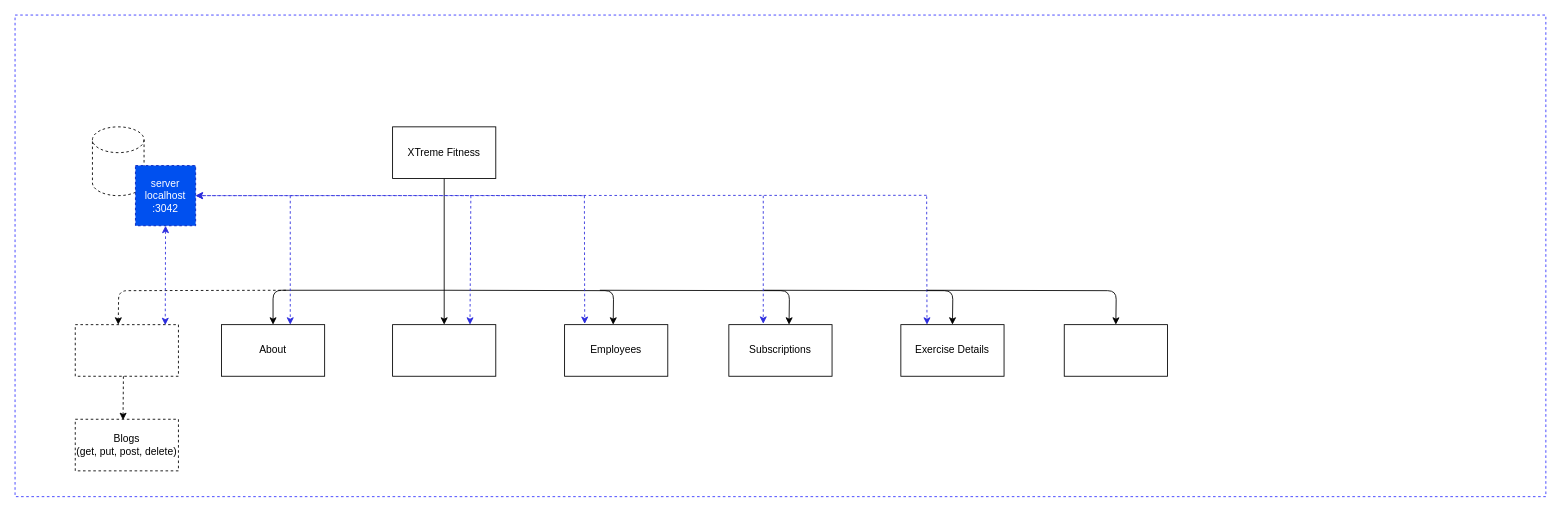
The diagram is 1561 pixels wide and 512 high, and some of its shapes have lost their labels. Here are the shapes that lost their labels. From the top down, the box of each, then its label:
(92, 126, 144, 196): DB
(74, 324, 178, 376): Backoffice
(392, 324, 496, 376): Services
(1063, 324, 1167, 376): Blog Details
